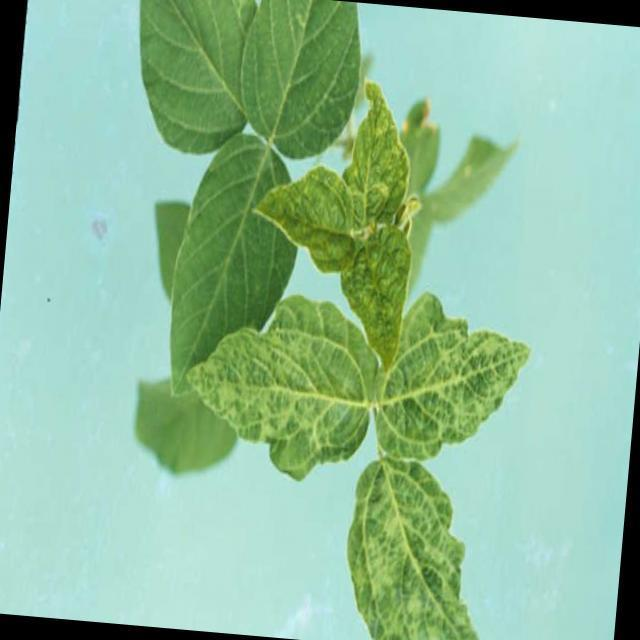Mosaic Virus: (344, 465, 499, 640), (374, 302, 538, 462), (193, 323, 377, 462), (251, 174, 350, 288), (349, 90, 416, 236), (340, 245, 411, 372)
